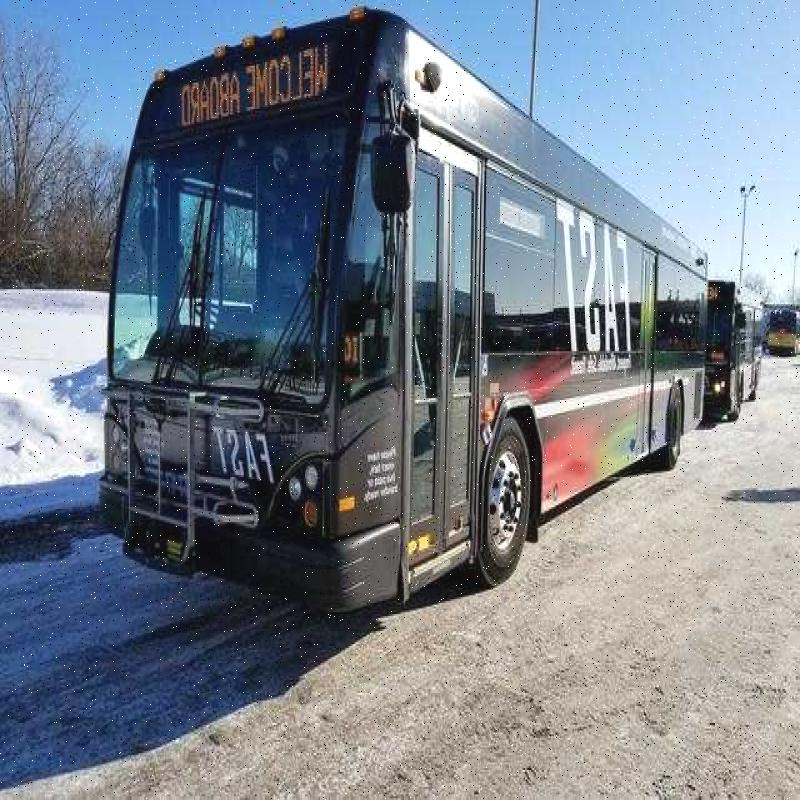bus: (89, 24, 722, 634)
